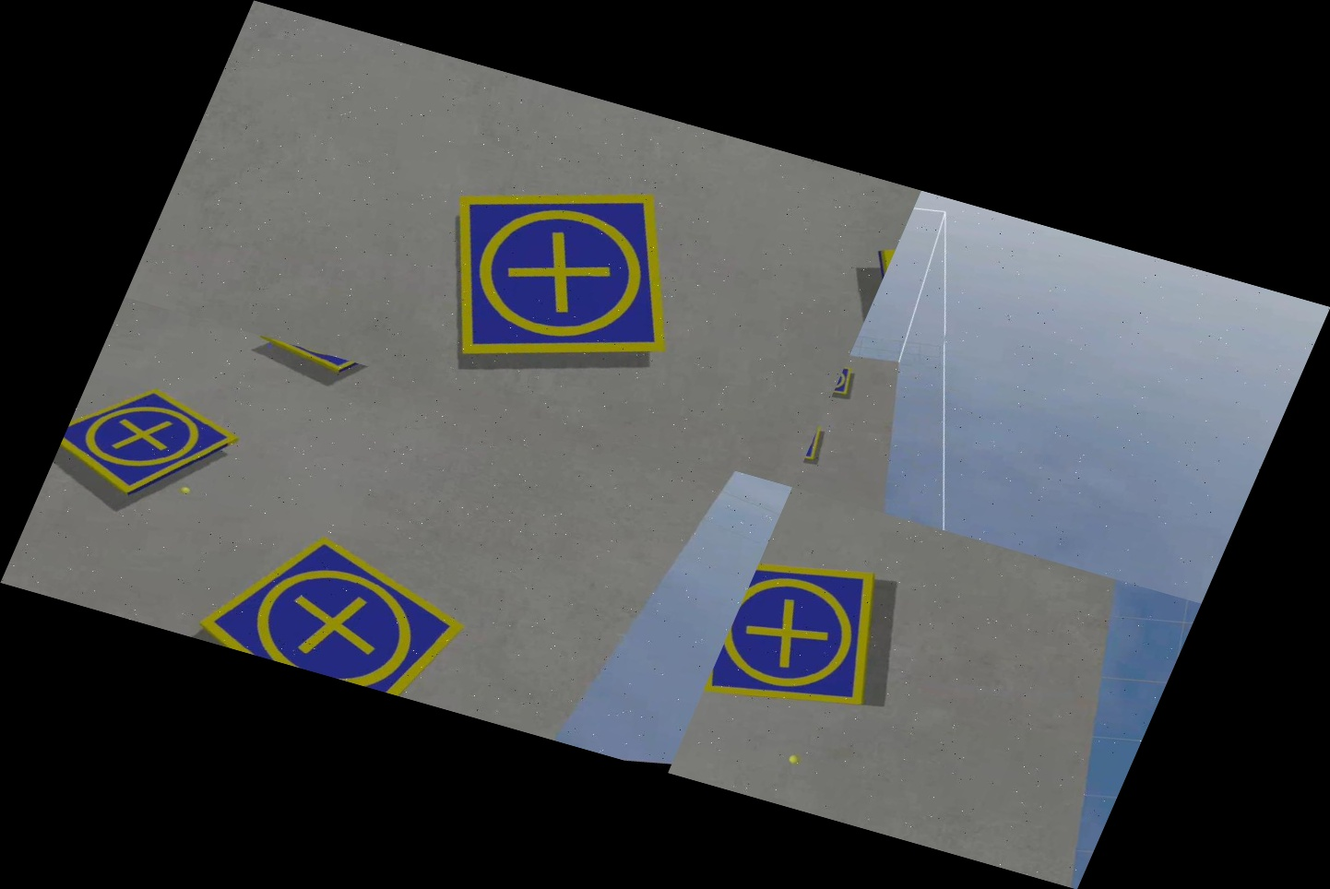small_base: (391, 139, 734, 413), (166, 479, 528, 714), (700, 538, 923, 742), (41, 354, 275, 539), (237, 333, 401, 406), (800, 421, 834, 472), (829, 362, 862, 406)
